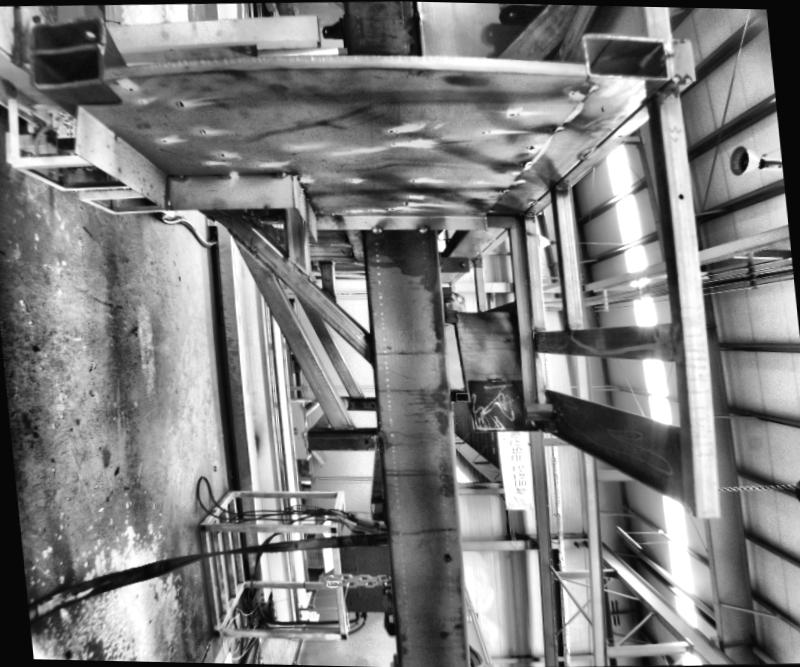hole: (672, 190, 684, 200), (440, 551, 446, 558), (360, 437, 366, 443), (632, 339, 637, 345)
welding: (210, 166, 235, 181), (166, 167, 185, 180), (412, 223, 430, 233), (266, 168, 284, 176), (368, 223, 380, 234)
